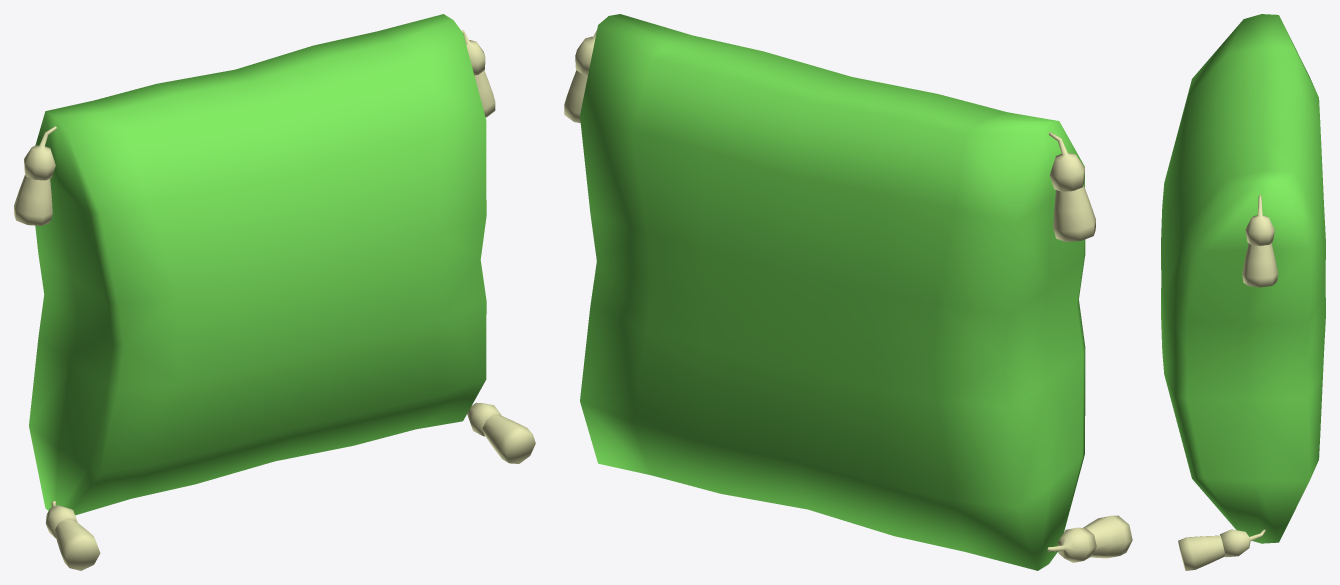
The model's file is Pillow_a.fbx.
3 views of the same model, side by side, from view 1: azimuth 30°, elevation 25°; view 2: azimuth 150°, elevation 25°; view 3: azimuth 270°, elevation 25° (orthographic). The views are drawn at different scales.
Parts seen in each view (by area): view 1: Cube.007, Cylinder.001, Cylinder.004; view 2: Cube.007, Cylinder.004, Cylinder.001; view 3: Cube.007, Cylinder.004, Cylinder.001.
Boxes of the visible parts, left/top/right/bottom form: Cube.007: left=29, top=14, right=486, bottom=515; Cylinder.001: left=45, top=402, right=535, bottom=570; Cylinder.004: left=14, top=30, right=495, bottom=225; Cube.007: left=580, top=14, right=1085, bottom=570; Cylinder.004: left=564, top=30, right=1095, bottom=241; Cylinder.001: left=1047, top=515, right=1132, bottom=562; Cube.007: left=1161, top=14, right=1325, bottom=543; Cylinder.004: left=1242, top=195, right=1277, bottom=287; Cylinder.001: left=1178, top=529, right=1265, bottom=570.
Bounding box in the file's own units: 55.63 × 46.59 × 18.66.
